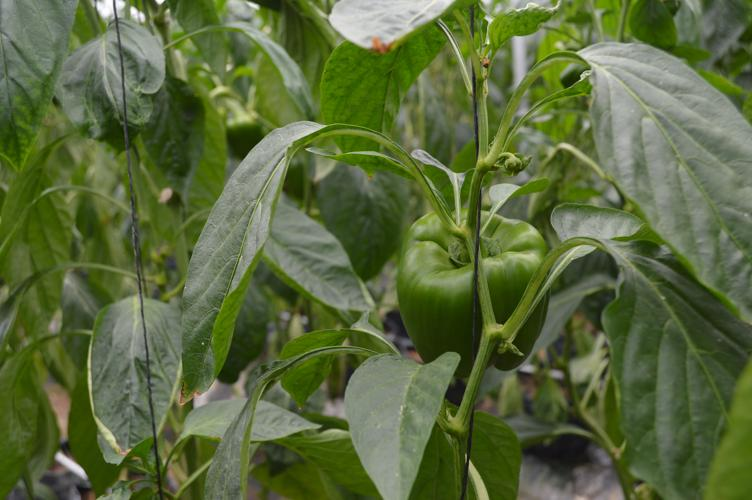BellPepper: (392, 213, 541, 369)
